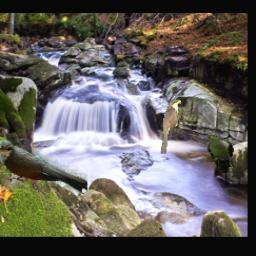Cuckoo: (0, 140, 88, 194), (160, 100, 181, 154), (206, 135, 235, 174)
